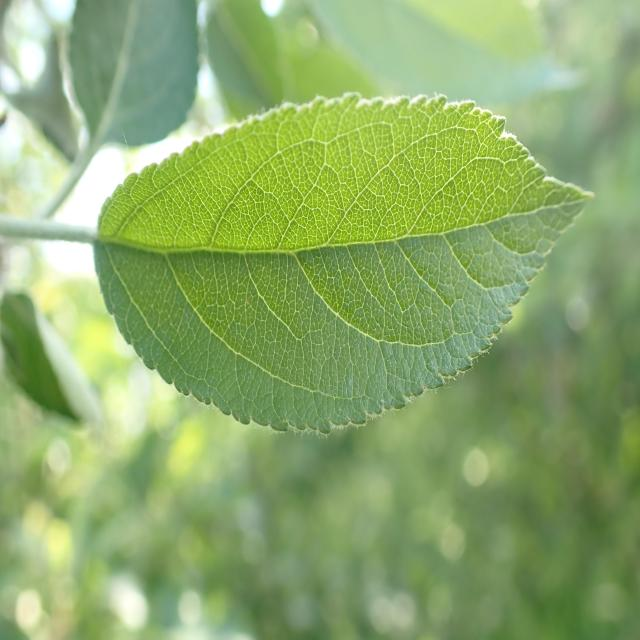healthy: (95, 90, 596, 439)
